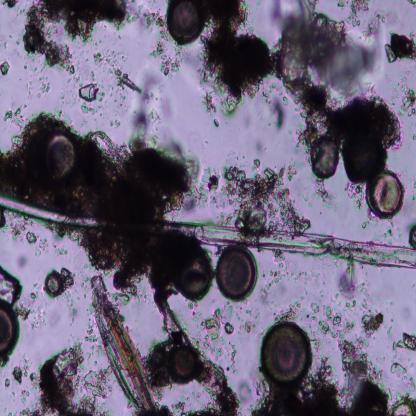Background material: (0, 112, 198, 218), (275, 2, 379, 133), (199, 3, 277, 112), (86, 231, 209, 299), (22, 0, 128, 68), (223, 156, 312, 231), (245, 354, 340, 416), (32, 340, 109, 414), (329, 96, 401, 174), (340, 341, 416, 413), (123, 74, 166, 146), (257, 250, 294, 304), (344, 0, 390, 38), (194, 306, 236, 347), (132, 401, 243, 416), (334, 258, 361, 308), (0, 264, 28, 311), (18, 278, 45, 326), (309, 302, 347, 336), (391, 70, 416, 119), (62, 266, 82, 327), (383, 30, 416, 66), (130, 1, 166, 33), (152, 38, 182, 76), (261, 84, 285, 129), (82, 303, 103, 353), (276, 296, 305, 326), (292, 270, 328, 294), (113, 66, 143, 94), (314, 178, 337, 214), (278, 158, 304, 189), (390, 356, 414, 387), (96, 55, 127, 78), (345, 179, 365, 214), (381, 223, 406, 249), (0, 105, 24, 130), (356, 276, 373, 309), (20, 356, 40, 384), (312, 338, 335, 362), (362, 311, 384, 336), (245, 307, 262, 339), (34, 74, 53, 102), (233, 378, 255, 402), (61, 62, 82, 86), (8, 213, 29, 237), (405, 165, 416, 209), (78, 81, 98, 104), (396, 329, 416, 352), (202, 166, 219, 192), (27, 233, 46, 256), (201, 91, 218, 116), (77, 101, 98, 116), (50, 241, 70, 256), (15, 254, 30, 272), (254, 136, 268, 155), (18, 389, 32, 407), (12, 366, 24, 386), (345, 298, 358, 316), (409, 221, 416, 248), (0, 59, 11, 76), (230, 348, 239, 367), (86, 65, 96, 82), (345, 319, 355, 334), (384, 325, 394, 339), (96, 92, 106, 104), (108, 119, 121, 128), (21, 408, 35, 416), (360, 222, 374, 230), (4, 0, 18, 7), (318, 290, 326, 302), (405, 0, 416, 8), (213, 119, 222, 127), (5, 378, 11, 389), (334, 290, 339, 301), (14, 38, 20, 46)
Cellulose filter fibre: (152, 281, 238, 407)
Diatom: (94, 301, 150, 410), (261, 319, 312, 384), (216, 246, 258, 302), (37, 131, 79, 183), (366, 166, 403, 218), (178, 254, 214, 300), (165, 0, 204, 42), (309, 131, 339, 181), (0, 295, 20, 358), (168, 346, 198, 384), (46, 273, 63, 296)
